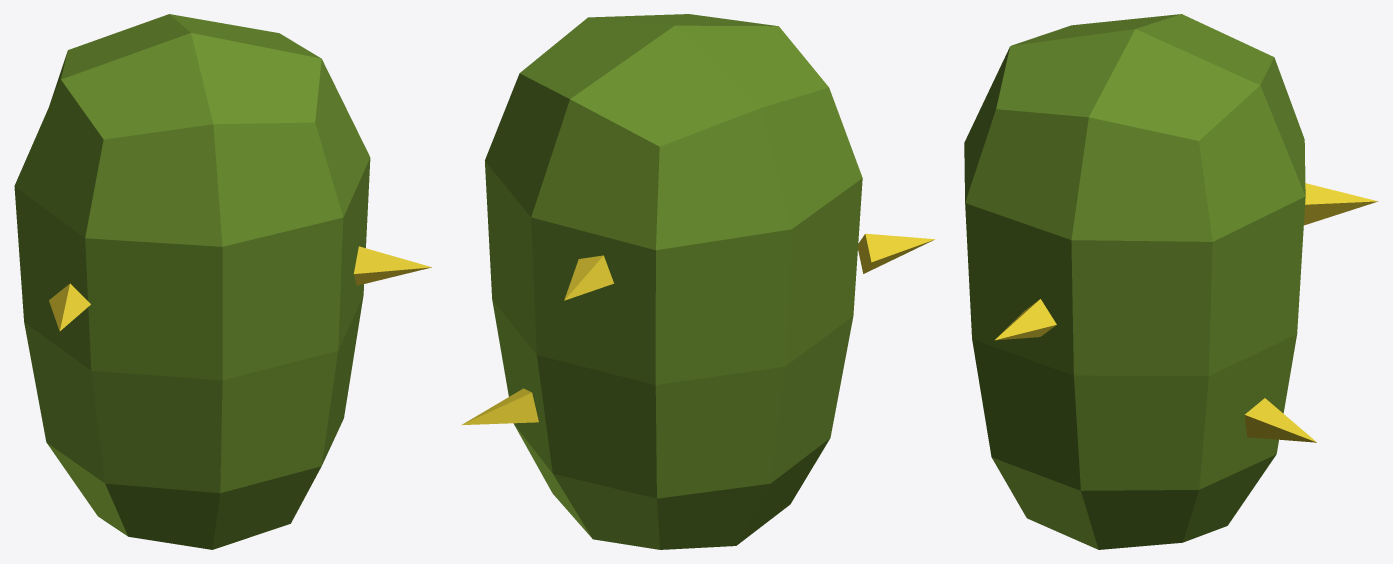
File: Kaktus cilikkk.glb
3 views of the same model, side by side, from view 1: azimuth 30°, elevation 25°; view 2: azimuth 150°, elevation 25°; view 3: azimuth 270°, elevation 25° (orthographic). The views are drawn at different scales.
Visible parts, largest first — view 1: Plane.002, Cone.016, Cone.014; view 2: Plane.002, Cone.014, Cone.015, Cone.017; view 3: Plane.002, Cone.015, Cone.017, Cone.016.
Boxes of the visible parts, left/top/right/bottom form: Plane.002: left=14, top=14, right=370, bottom=549; Cone.016: left=354, top=246, right=431, bottom=285; Cone.014: left=49, top=283, right=90, bottom=331; Plane.002: left=485, top=14, right=862, bottom=549; Cone.014: left=858, top=233, right=934, bottom=273; Cone.015: left=461, top=388, right=538, bottom=425; Cone.017: left=564, top=255, right=613, bottom=300; Plane.002: left=964, top=14, right=1305, bottom=549; Cone.015: left=1244, top=398, right=1316, bottom=442; Cone.017: left=1304, top=183, right=1377, bottom=225; Cone.016: left=995, top=299, right=1056, bottom=340.
Bounding box in the file's own units: 0.1063 × 0.14 × 0.1037.
